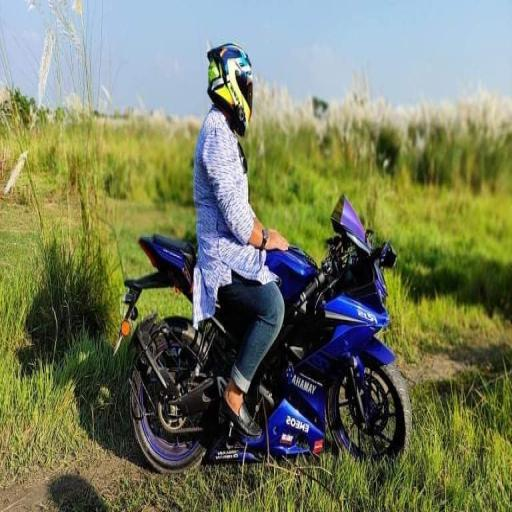helmet: (191, 39, 289, 442), (205, 40, 254, 138)
overloading: (111, 192, 413, 474)
